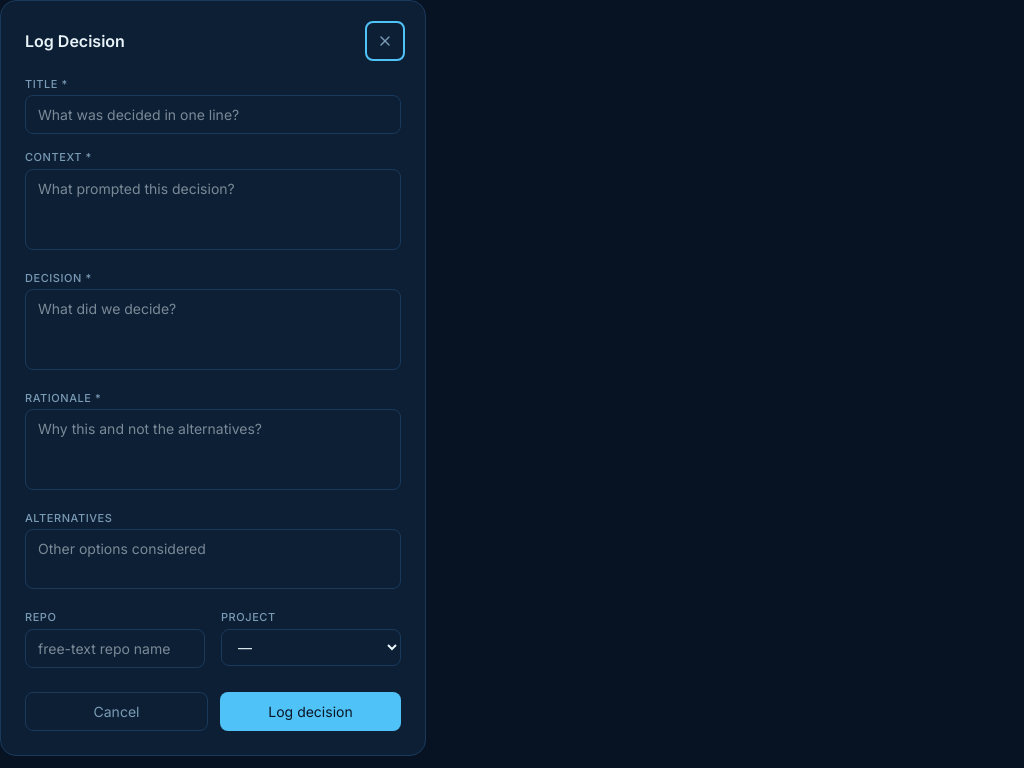
Scenario: DecisionCreateModal › shows required errors for all four required fields when empty
The image size is (1024, 768).
Click the button "Log decision": (310, 711) [220,692,401,731]
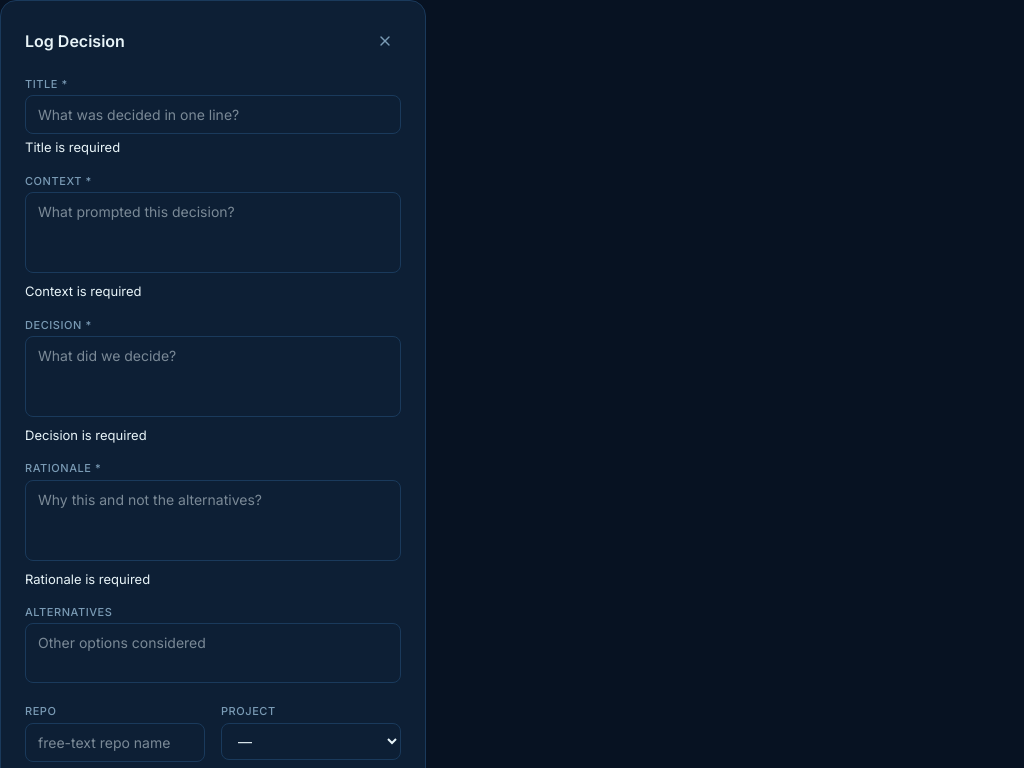
Check: the text "Title is required" is shown, box [25,139,120,155]
Check: the text "Context is required" is shown, box [25,283,142,299]
Check: the text "Decision is required" is shown, box [25,427,147,443]
